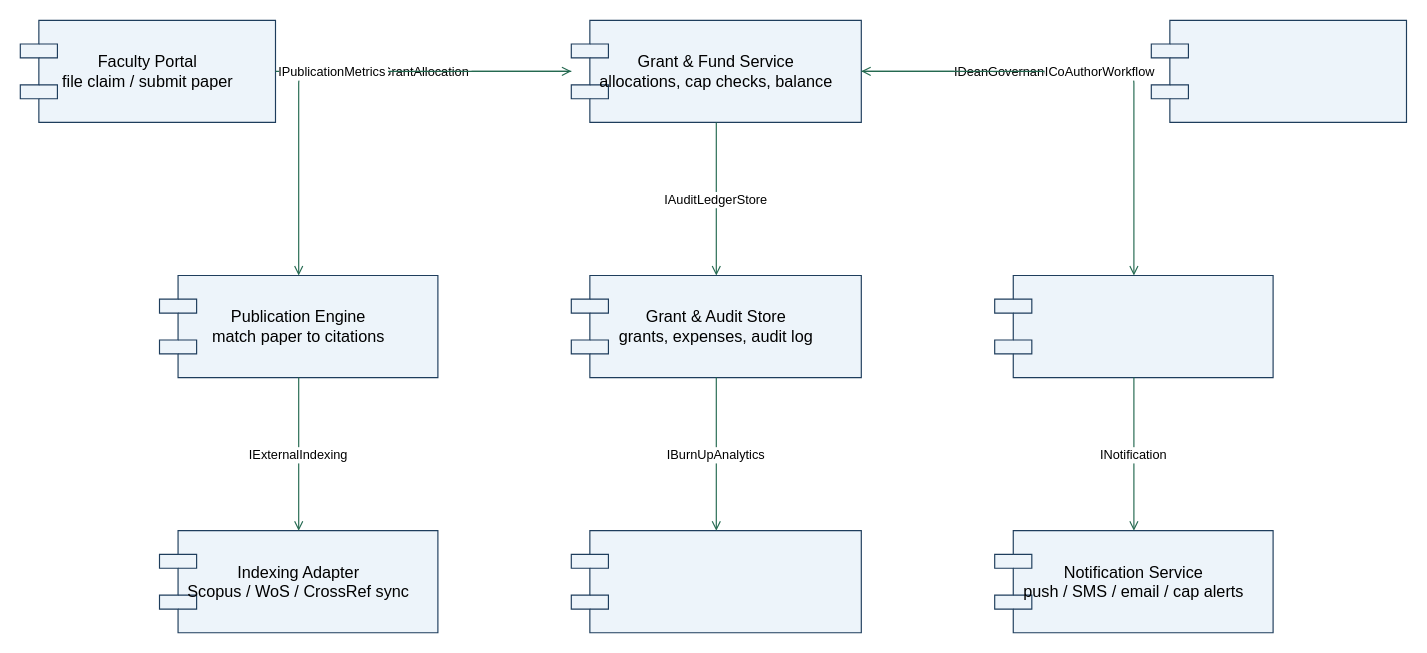
Image size: 1427x653. Some labels were removed from this diagram. Here are the shapes that lost their labels. From the top down, the centre of each, then its label:
At pixel 1278 70: "Dean Console grant approvals / cap override".
At pixel 1133 326: "Co-Author Service co-author consent / approvals".
At pixel 715 581: "Burn-Up Analytics fund burn rate, runout forecast".
